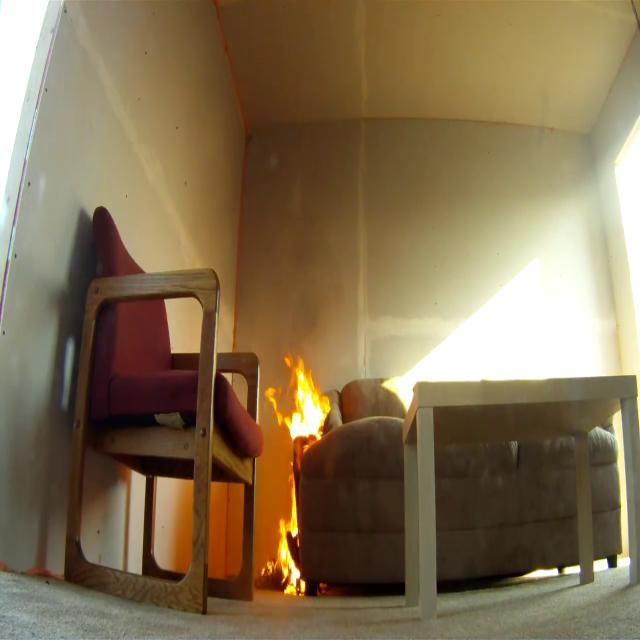fire: (263, 354, 333, 444), (274, 454, 312, 604)
